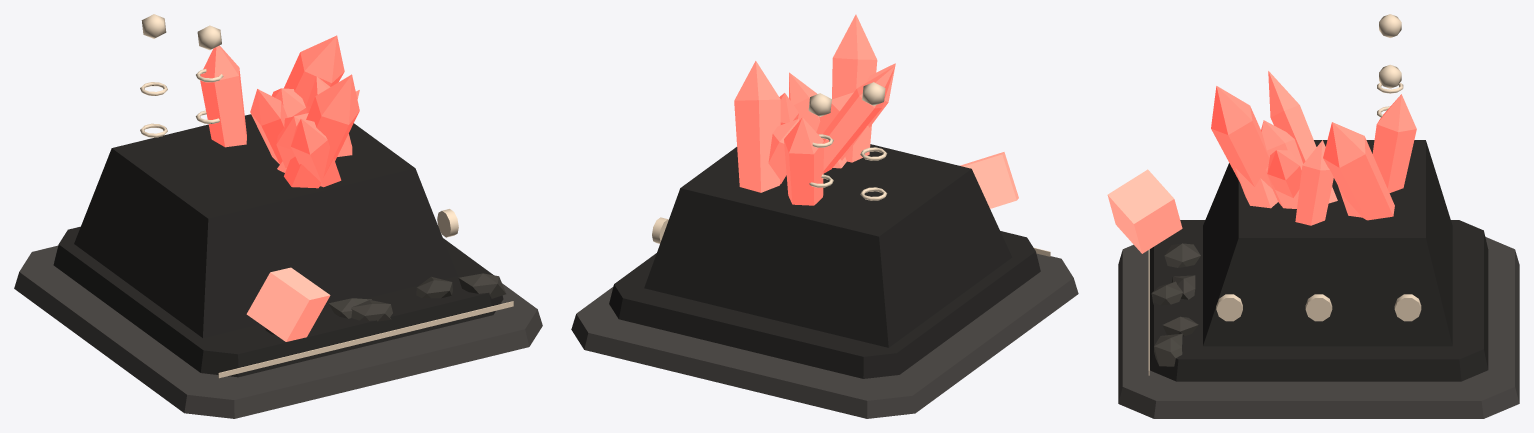
Rendered from EmberCrusherDropper_Roblox.fbx.
The picture shows the model from 3 angles, left to right: view 1: azimuth 30°, elevation 25°; view 2: azimuth 150°, elevation 25°; view 3: azimuth 270°, elevation 25°; orthographic projection. The views are drawn at different scales.
Parts seen in each view (by area): view 1: DarkPlate, SteelPlate, Crystal, AccentNeon, Ore, Rubble; view 2: DarkPlate, SteelPlate, Crystal, AccentNeon, Ore; view 3: DarkPlate, SteelPlate, Crystal, Ore, AccentNeon, Rubble.
Part boxes in pixels (left/top/right/bottom): DarkPlate: left=53, top=114, right=503, bottom=377; SteelPlate: left=14, top=245, right=542, bottom=418; Crystal: left=200, top=35, right=359, bottom=188; AccentNeon: left=140, top=14, right=513, bottom=378; Ore: left=246, top=267, right=330, bottom=341; Rubble: left=265, top=273, right=506, bottom=334; DarkPlate: left=609, top=144, right=1040, bottom=378; SteelPlate: left=571, top=253, right=1078, bottom=418; Crystal: left=734, top=14, right=895, bottom=205; AccentNeon: left=652, top=82, right=1050, bottom=256; Ore: left=960, top=152, right=1018, bottom=208; DarkPlate: left=1149, top=140, right=1488, bottom=381; SteelPlate: left=1118, top=237, right=1519, bottom=418; Crystal: left=1211, top=71, right=1416, bottom=225; Ore: left=1107, top=169, right=1182, bottom=253; AccentNeon: left=1148, top=14, right=1421, bottom=375; Rubble: left=1151, top=243, right=1200, bottom=366.
Size of the model in its own units: 900 by 830 by 924.
